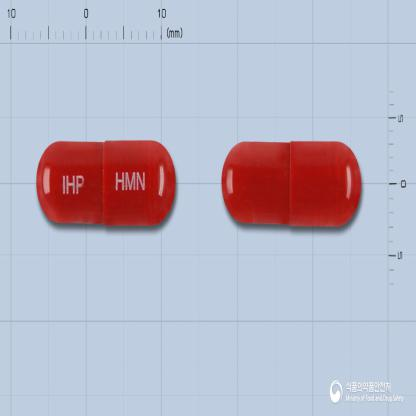pill: (220, 138, 362, 229), (35, 139, 177, 227)
